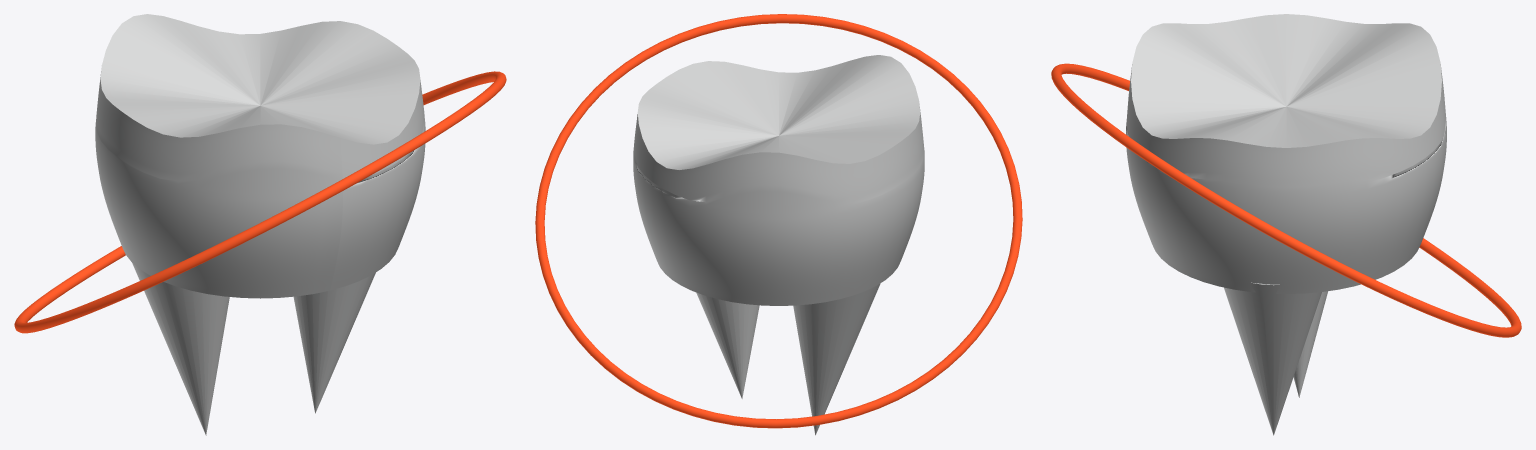
Rendered from tooth.glb.
3 views of the same model, side by side, from view 1: azimuth 30°, elevation 25°; view 2: azimuth 150°, elevation 25°; view 3: azimuth 270°, elevation 25° (orthographic). The views are drawn at different scales.
Bounding box in the file's own units: 3.26 × 2.5 × 2.95.
